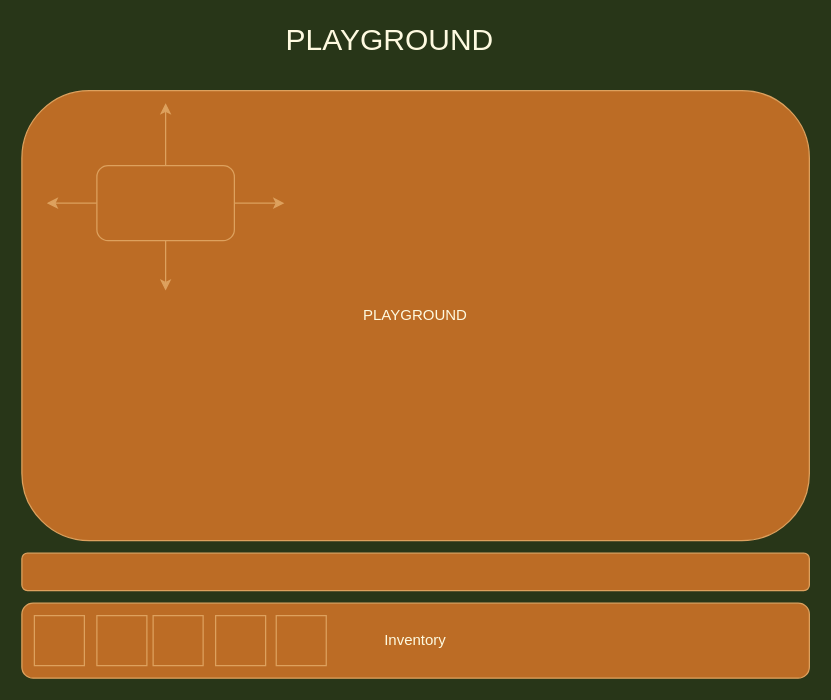
Image size: 831x700. Some labels were removed from this diagram. Here are the shapes that lost their labels. From the top down, the centre of each, then its label:
point 165,202: Comunicate
point 415,571: STATISTICS
